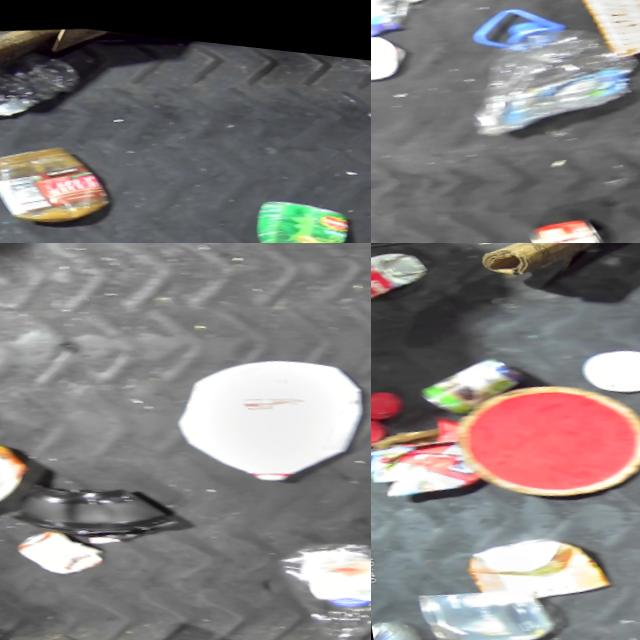can: (411, 344, 535, 427), (252, 176, 342, 243), (13, 517, 103, 579), (520, 196, 607, 243), (371, 243, 431, 304), (160, 221, 314, 243), (74, 224, 171, 243)
milk_jug: (165, 329, 371, 491), (0, 416, 33, 523)
non_white_jug: (371, 0, 428, 57)
plastic_bottle: (452, 0, 640, 142), (0, 35, 77, 129)
